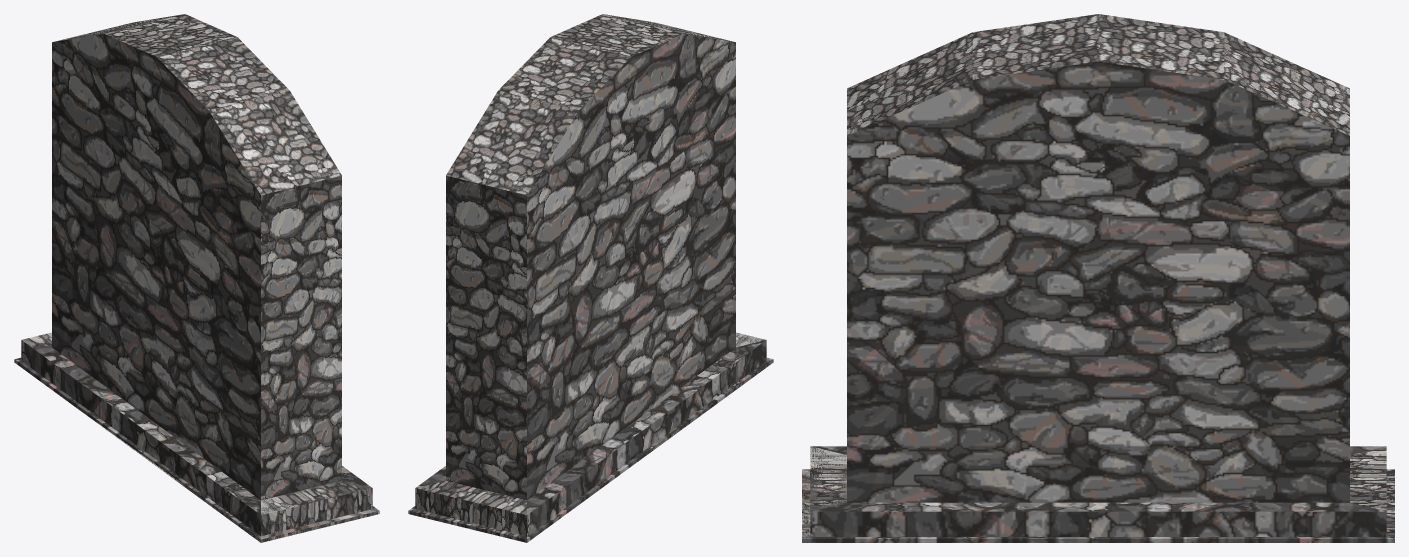
The model's file is Gravestone.fbx.
3 renders of one model, left to right at view 1: azimuth 30°, elevation 25°; view 2: azimuth 150°, elevation 25°; view 3: azimuth 270°, elevation 25°, orthographic. The views are drawn at different scales.
Parts seen in each view (by area): view 1: Gravestone; view 2: Gravestone; view 3: Gravestone.
Boxes of the visible parts, x1,y1,x2,y2 form: Gravestone: (14,14,379,542); Gravestone: (408,14,773,542); Gravestone: (802,14,1394,542).
Bounding box in the file's own units: 30.48 × 96.1 × 110.
Materials: 1 (1 with a texture image).
